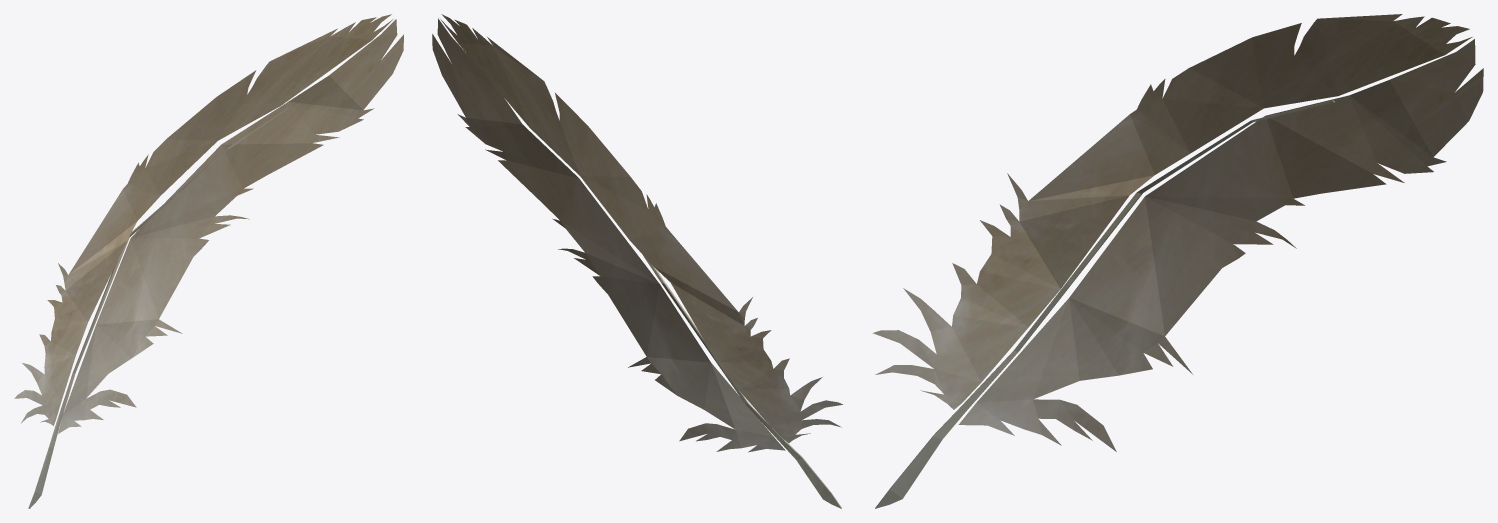
File: feather.obj
3 renders of one model, left to right at view 1: azimuth 30°, elevation 25°; view 2: azimuth 150°, elevation 25°; view 3: azimuth 330°, elevation 25°, orthographic. The views are drawn at different scales.
Visible parts, largest first — view 1: Plane.002; view 2: Plane.002; view 3: Plane.002.
Boxes of the visible parts, x1=… form: Plane.002: x1=14, y1=14, x2=403, y2=508; Plane.002: x1=432, y1=14, x2=842, y2=508; Plane.002: x1=872, y1=14, x2=1483, y2=508.
Bounding box in the file's own units: 6.24 × 5.98 × 1.03.
1 material, 1 textured.
